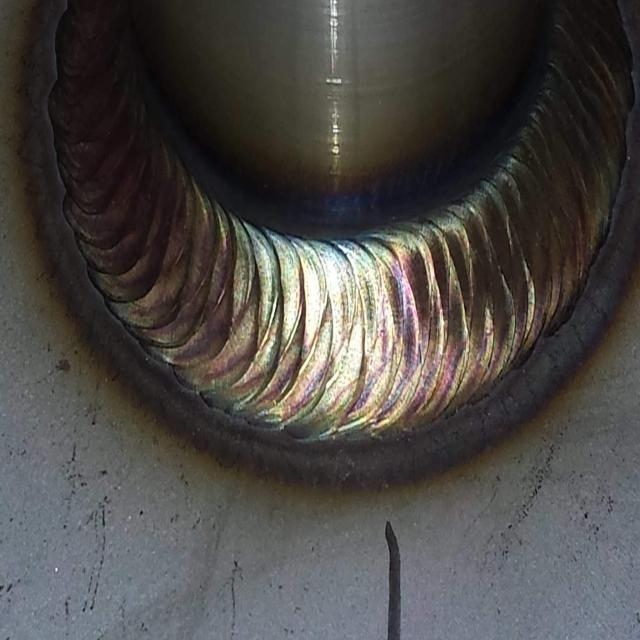Good Welding: (50, 4, 632, 438)
